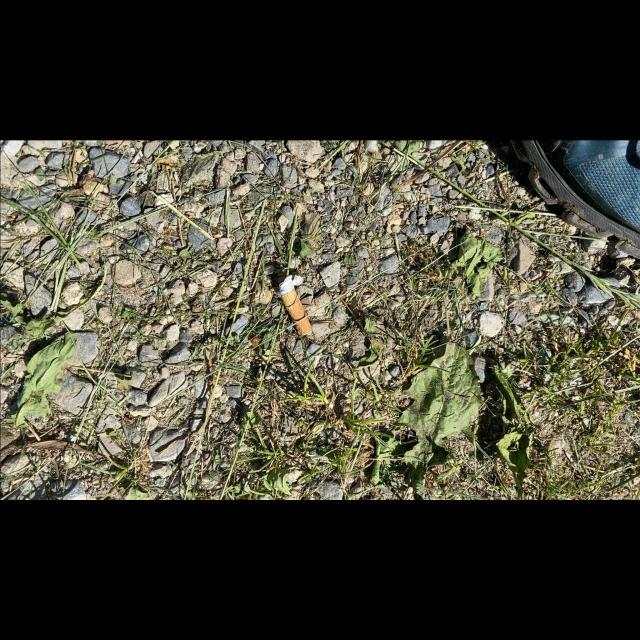cigarette: (277, 271, 313, 336)
